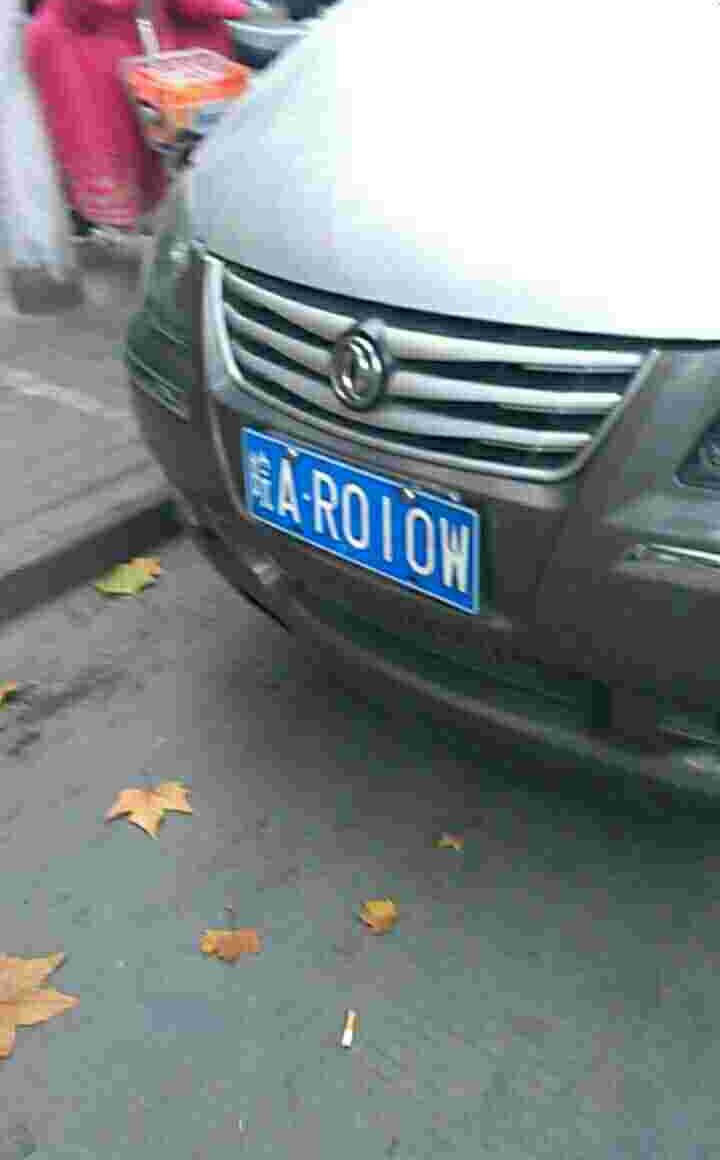license_plate: (243, 427, 481, 606)
